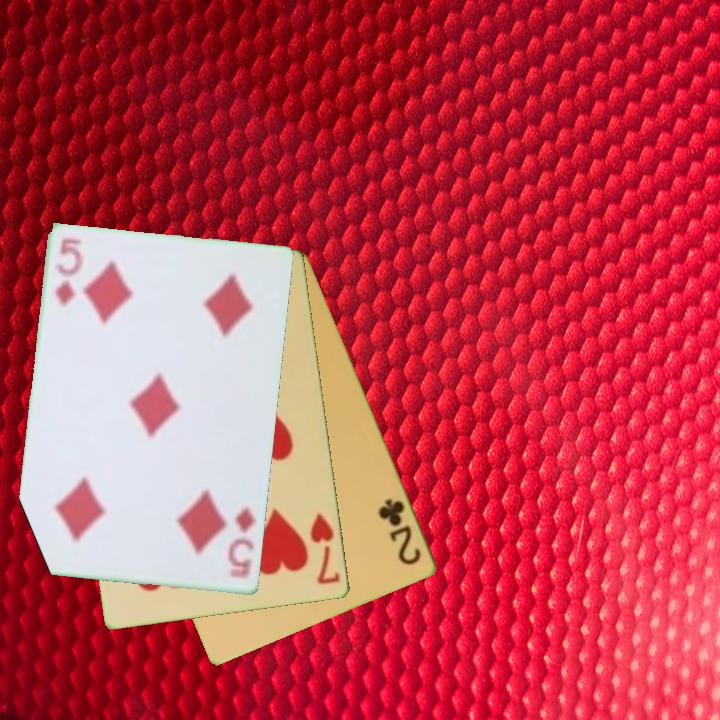2c: (375, 495, 425, 569)
5d: (225, 503, 259, 583), (52, 235, 85, 311)
7h: (307, 510, 343, 588)
